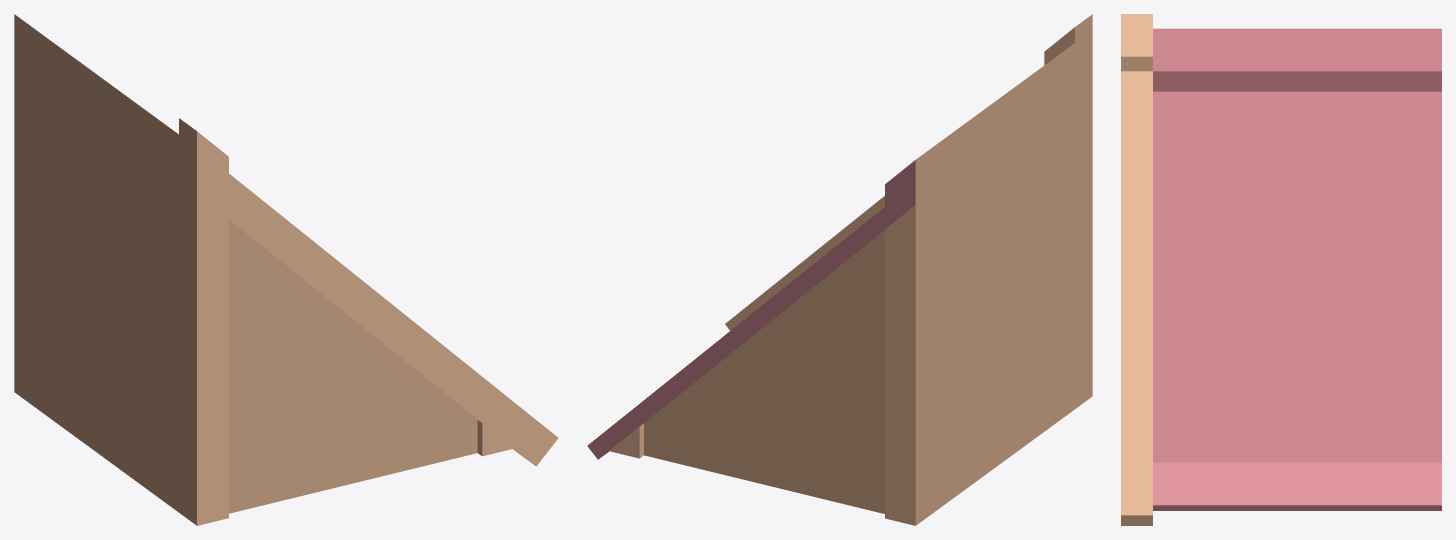
The model's file is roofHighLeft.glb.
3 renders of one model, left to right at view 1: azimuth 30°, elevation 25°; view 2: azimuth 150°, elevation 25°; view 3: azimuth 270°, elevation 25°, orthographic. The views are drawn at different scales.
Visible parts, largest first — view 1: roofHighLeft; view 2: roofHighLeft; view 3: roofHighLeft.
Part boxes in pixels (left/top/right/bottom): roofHighLeft: left=14, top=14, right=558, bottom=525; roofHighLeft: left=587, top=14, right=1092, bottom=525; roofHighLeft: left=1121, top=14, right=1441, bottom=525.
Size of the model in its own units: 1.14 by 1.26 by 1.
